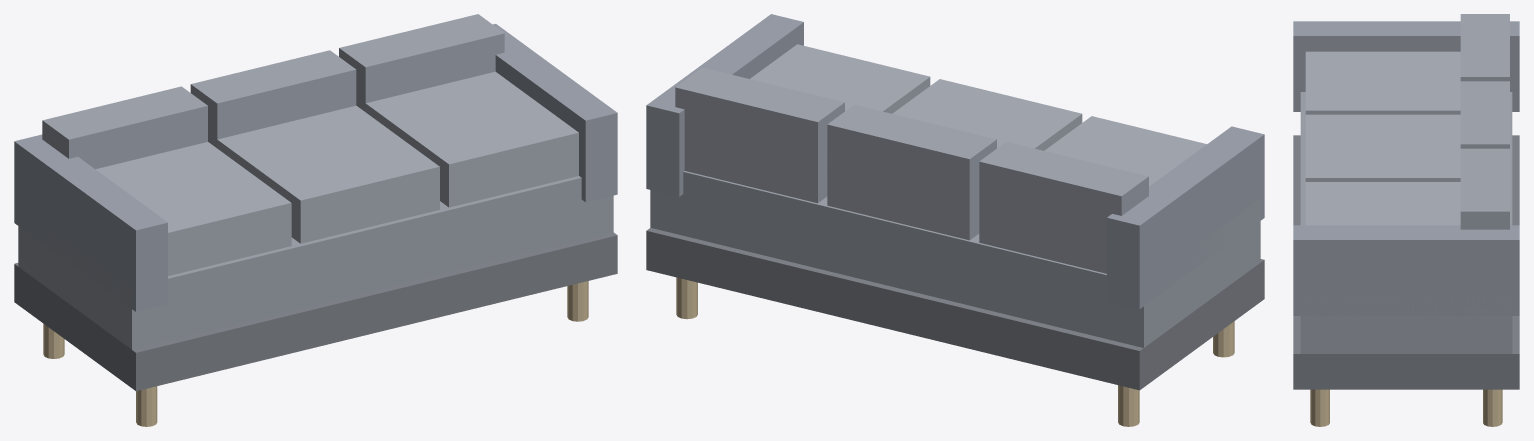
File: sofa-3-seater.glb
3 views of the same model, side by side, from view 1: azimuth 30°, elevation 25°; view 2: azimuth 150°, elevation 25°; view 3: azimuth 270°, elevation 25° (orthographic). The views are drawn at different scales.
Parts seen in each view (by area): view 1: part_1, part_5, part_2, part_4, part_3, part_0; view 2: part_2, part_5, part_4, part_3, part_1, part_0; view 3: part_1, part_3, part_5, part_2, part_4, part_0.
Part boxes in pixels (bbox=[...]): part_1: bbox=[96, 71, 578, 275]; part_5: bbox=[18, 176, 613, 349]; part_2: bbox=[42, 14, 504, 169]; part_4: bbox=[14, 232, 617, 391]; part_3: bbox=[14, 24, 617, 311]; part_0: bbox=[43, 281, 588, 426]; part_2: bbox=[675, 67, 1148, 273]; part_5: bbox=[650, 171, 1260, 347]; part_4: bbox=[646, 228, 1264, 390]; part_3: bbox=[646, 14, 1264, 309]; part_1: bbox=[750, 44, 1206, 186]; part_0: bbox=[676, 277, 1234, 426]; part_1: bbox=[1305, 51, 1460, 225]; part_3: bbox=[1293, 21, 1519, 315]; part_5: bbox=[1300, 92, 1512, 353]; part_2: bbox=[1460, 14, 1509, 229]; part_4: bbox=[1293, 135, 1519, 389]; part_0: bbox=[1310, 389, 1502, 426].
Bounding box in the file's own units: 2.1 × 0.95 × 0.92.
